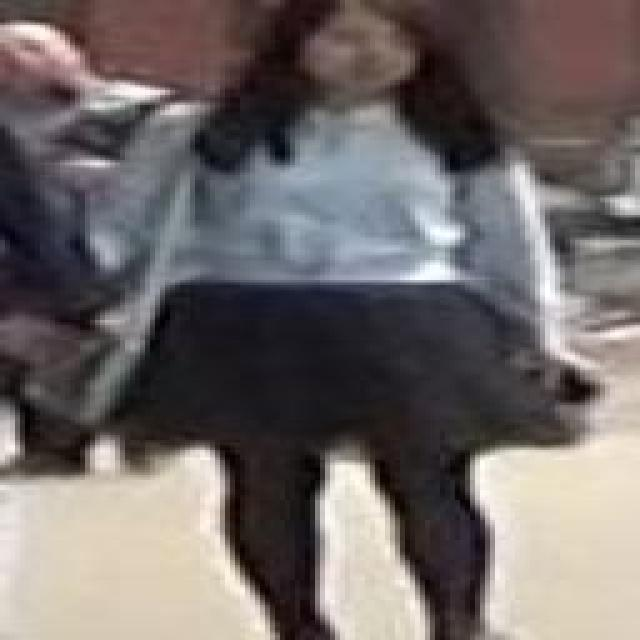adult: (99, 0, 557, 640)
